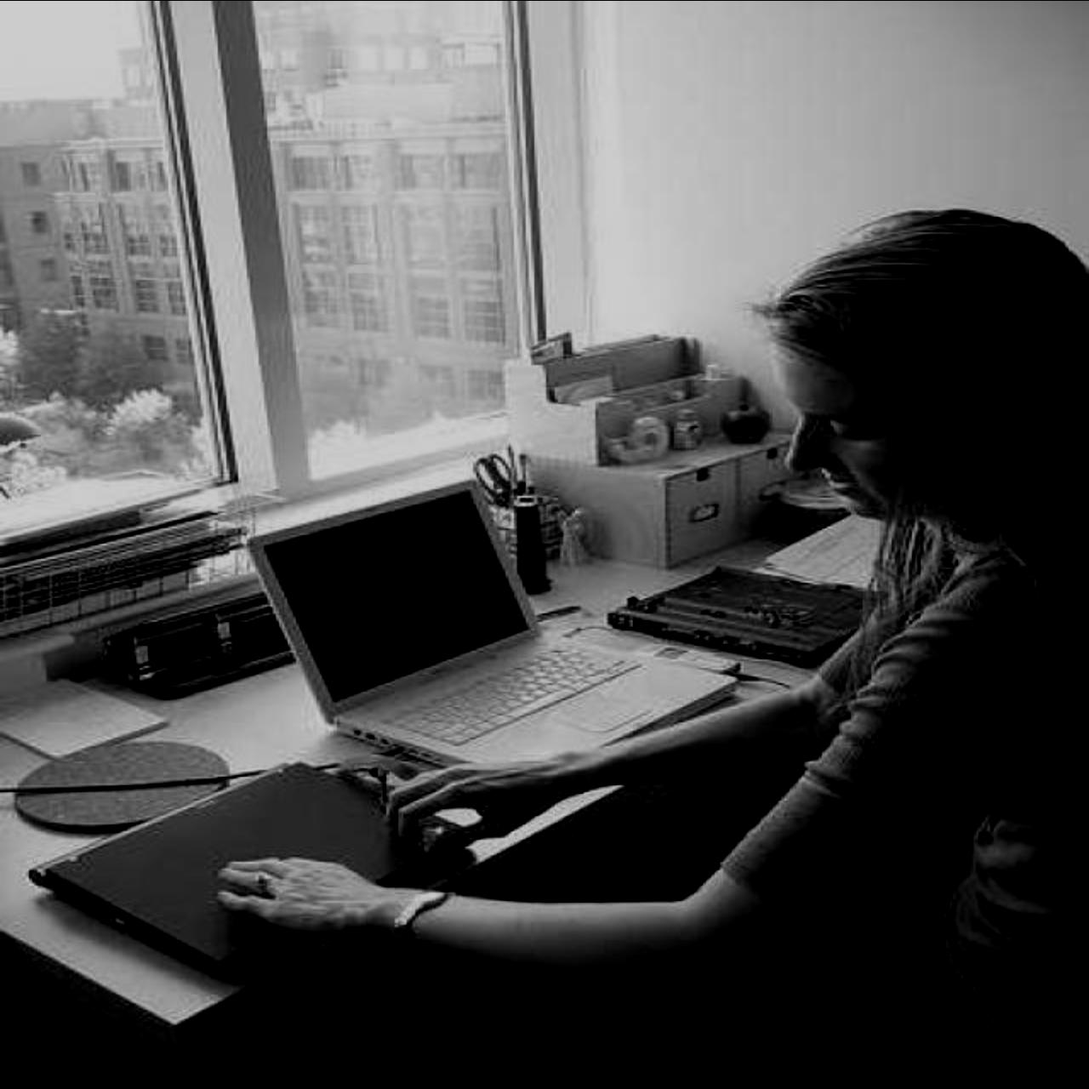laptop: (267, 502, 771, 764)
